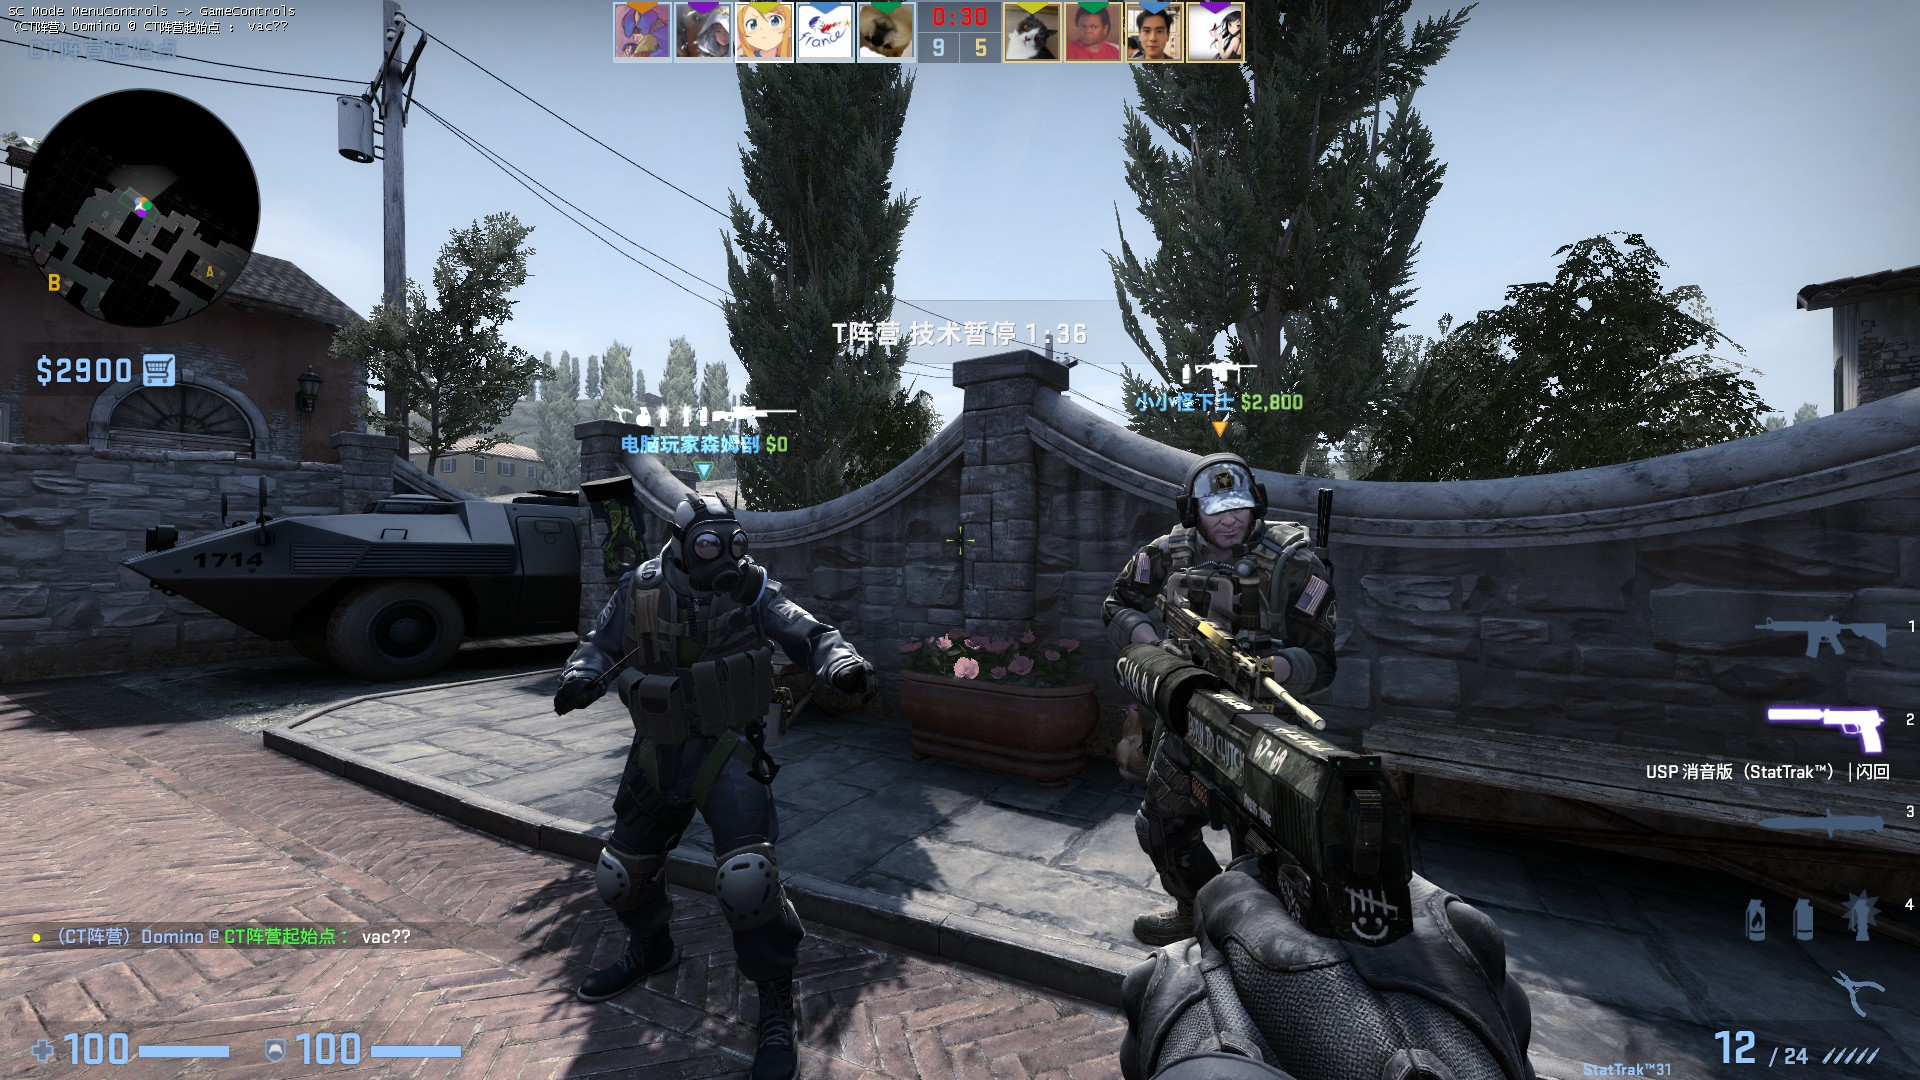head: (1175, 447, 1260, 546), (670, 489, 749, 590)
